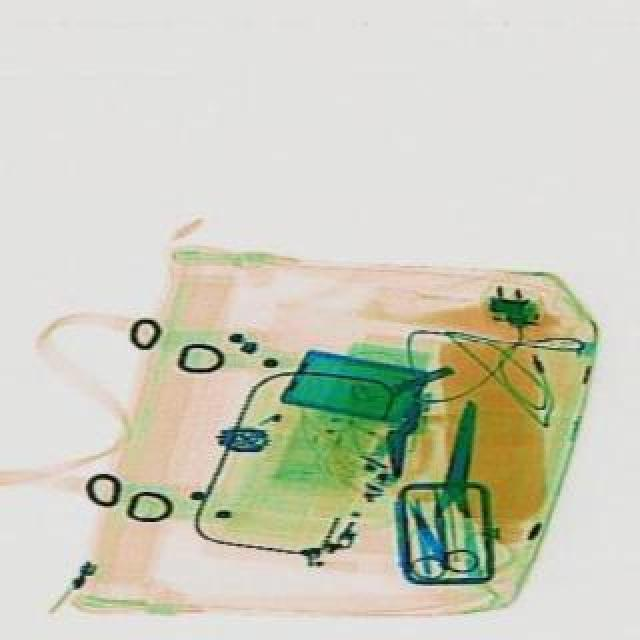pliers: (380, 488, 478, 592)
